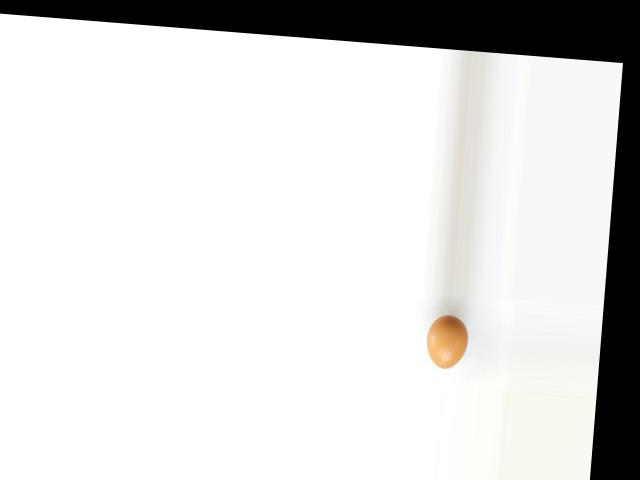egg: (425, 312, 470, 370)
